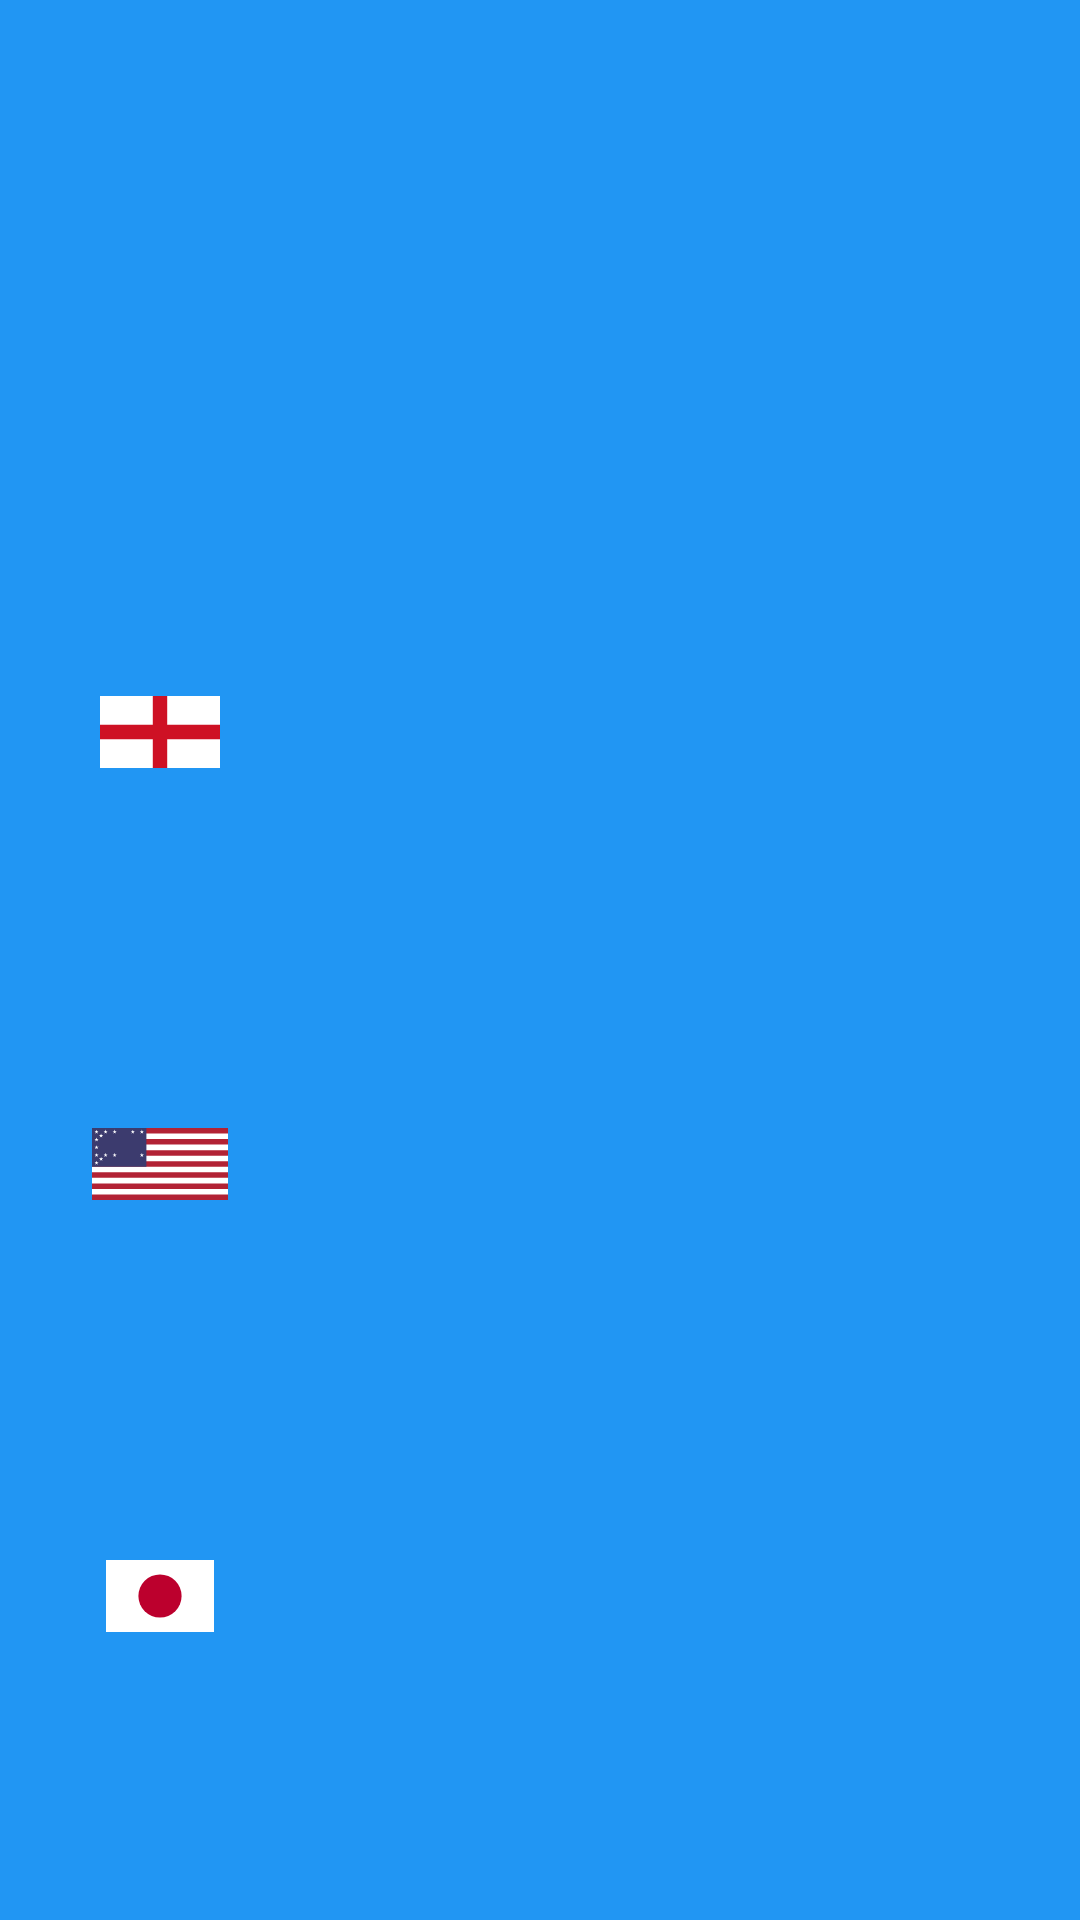

Point at icon controls on the screen. Image size 1080w x 1920h, points as point (x, y).
eng: point (160, 732)
